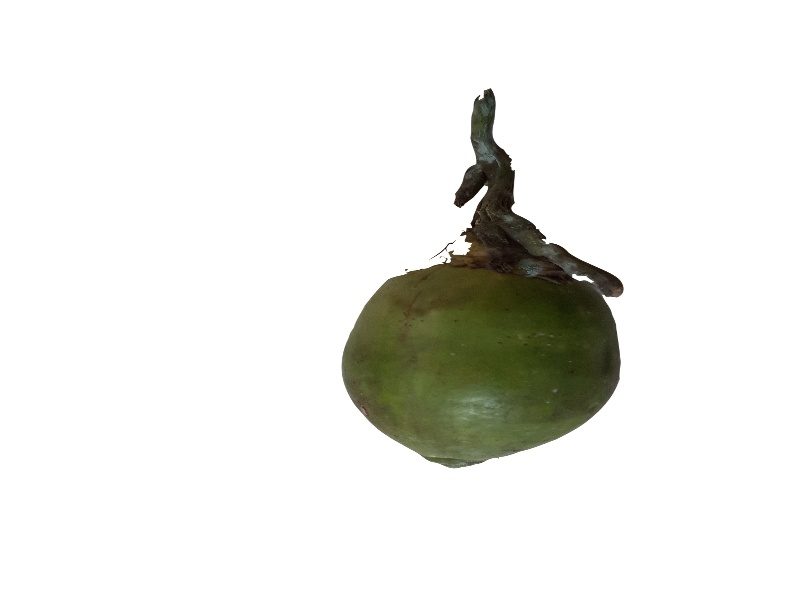arecanut: (327, 246, 640, 480)
